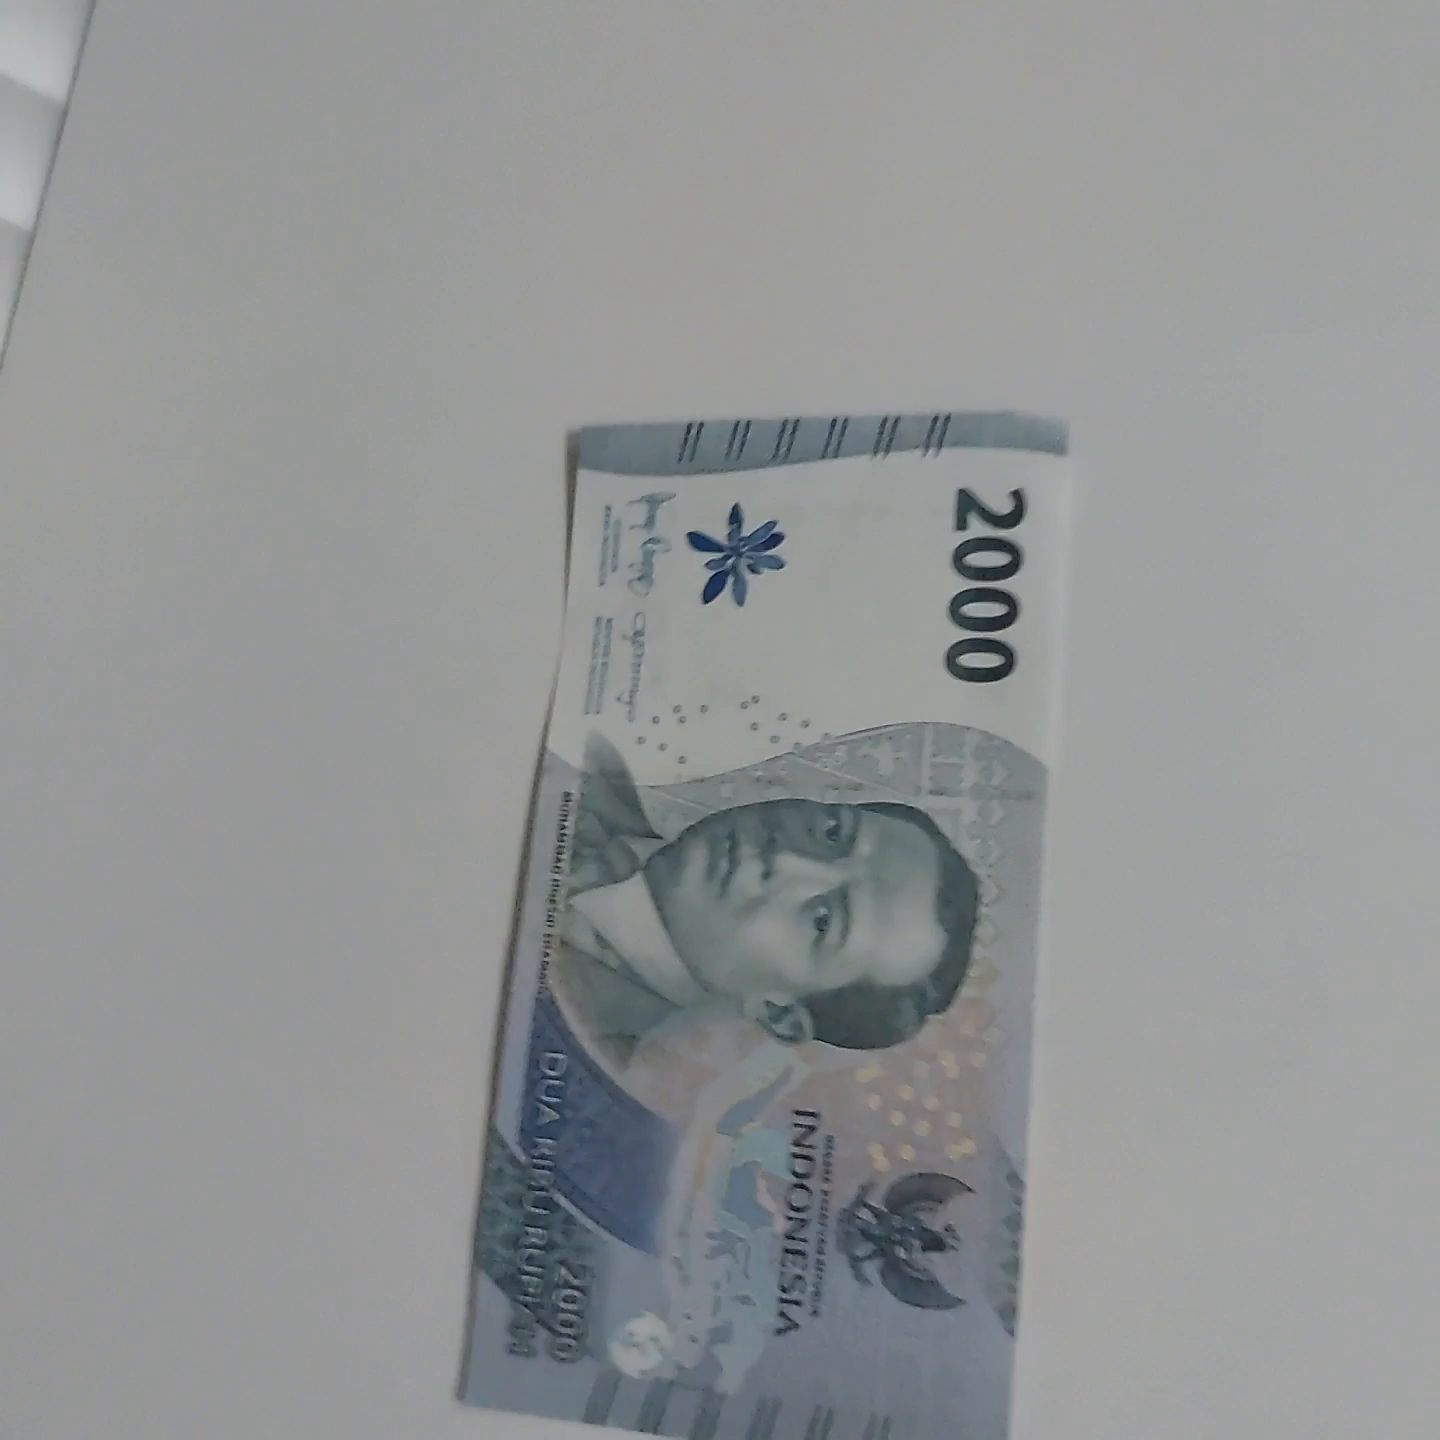2k: (464, 373, 1112, 1440)
